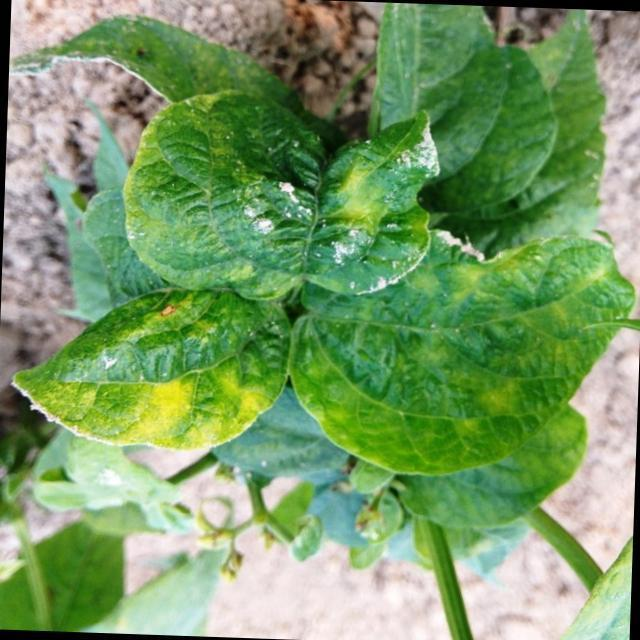Mosaic Virus: (313, 254, 640, 453), (16, 298, 282, 447), (123, 94, 314, 298), (294, 128, 442, 287)
